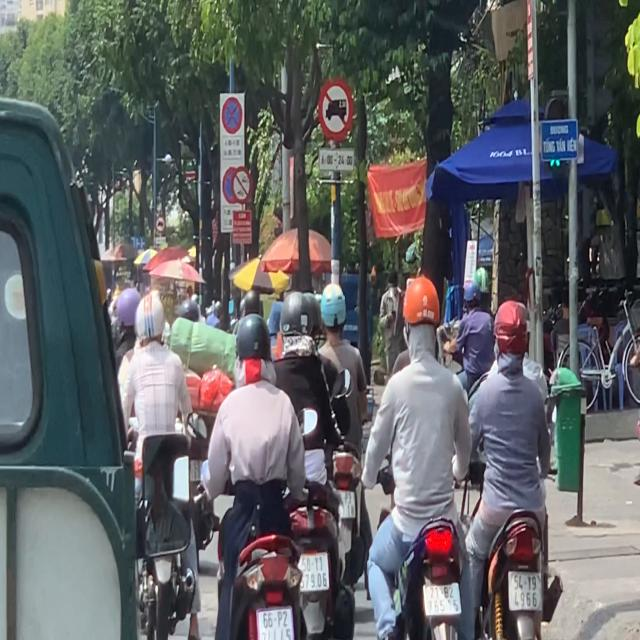Cam con lai: (318, 77, 358, 142), (230, 167, 252, 205)
Cam dung va do: (220, 96, 243, 136)
